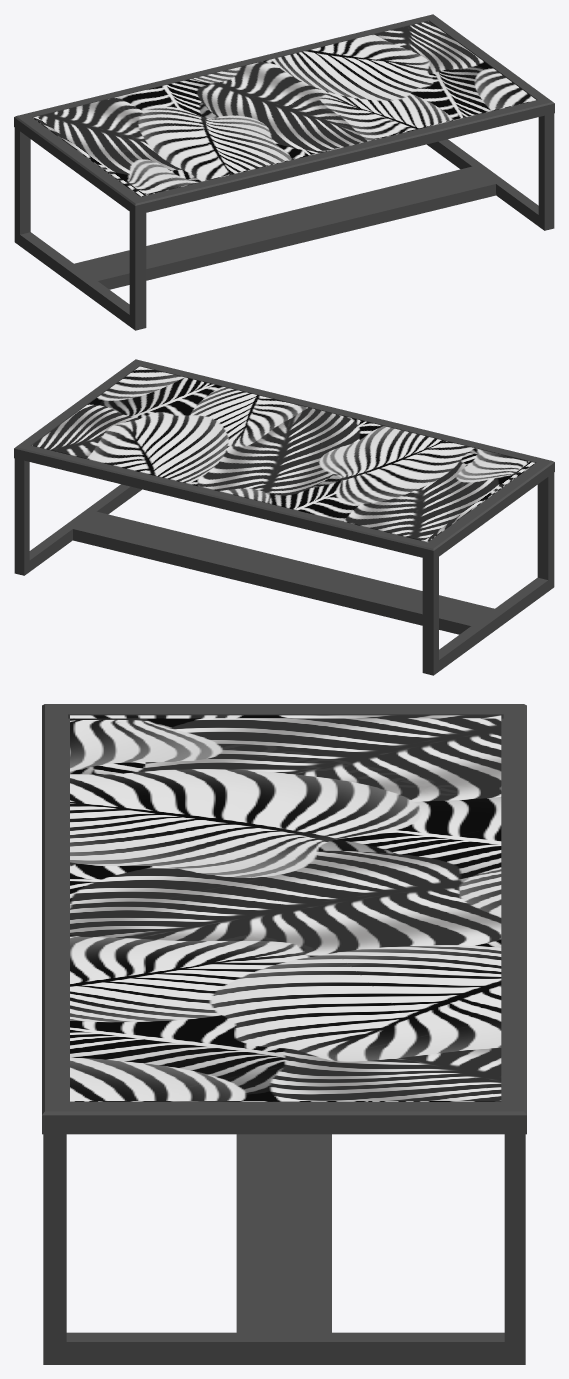
The model's file is table02.fbx.
3 renders of one model, top to bottom at view 1: azimuth 30°, elevation 25°; view 2: azimuth 150°, elevation 25°; view 3: azimuth 270°, elevation 25°, orthographic. The views are drawn at different scales.
Parts seen in each view (by area): view 1: Cube; view 2: Cube; view 3: Cube.
Boxes of the visible parts, x1,y1,x2,y2 form: Cube: (14,14,554,330); Cube: (14,359,554,675); Cube: (42,704,526,1364).
Size of the model in its own units: 400 by 115 by 200.
